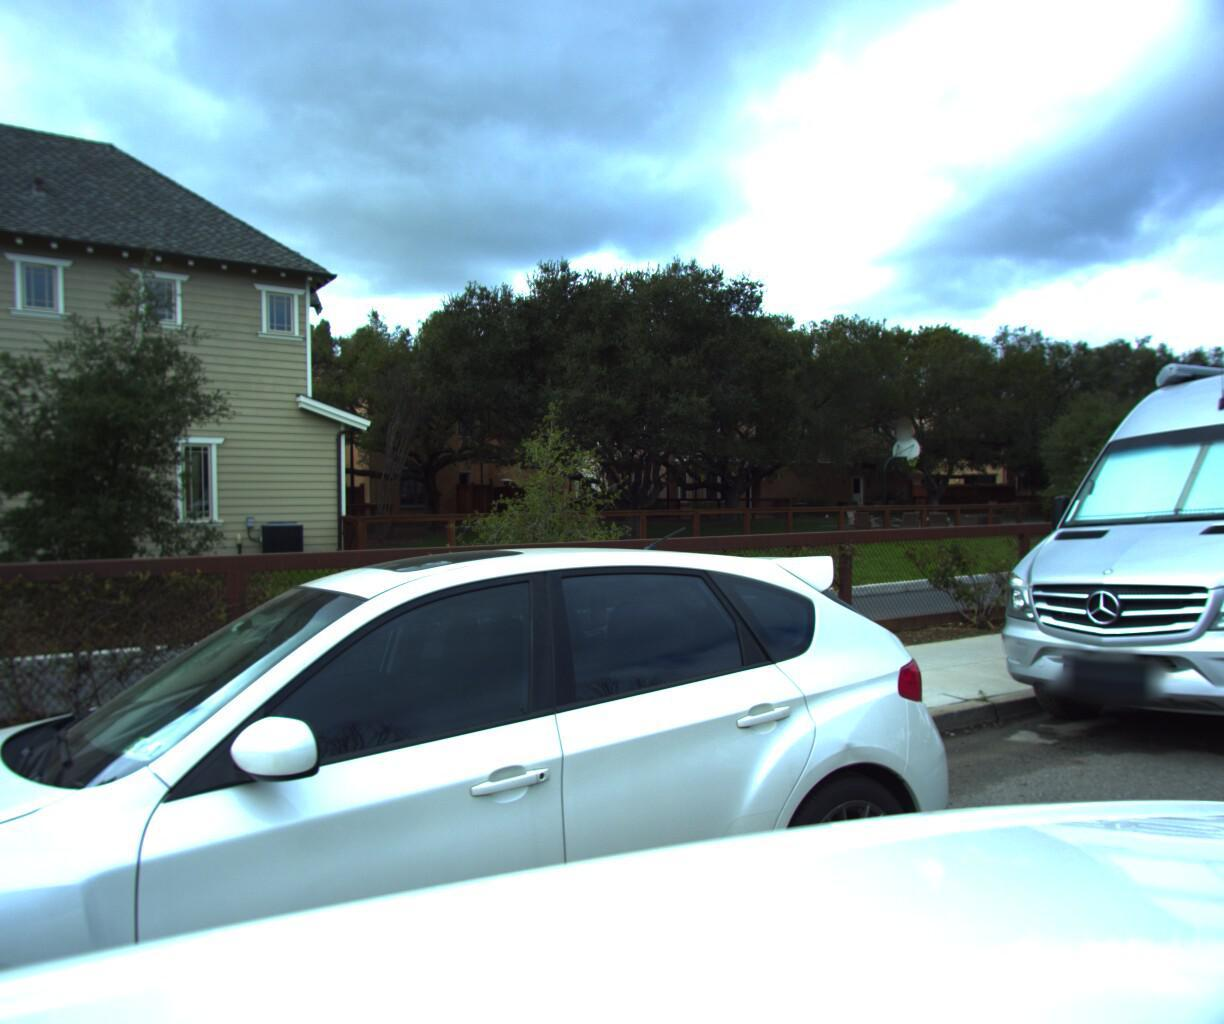car: (0, 526, 983, 1024), (950, 263, 1224, 815)
